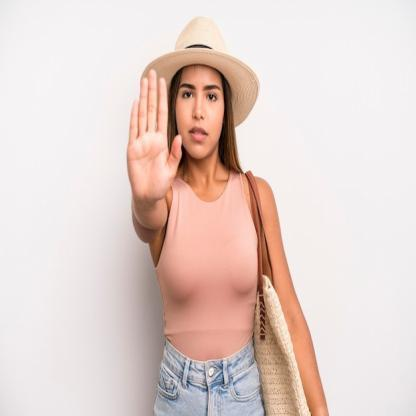stop: (126, 68, 184, 204)
